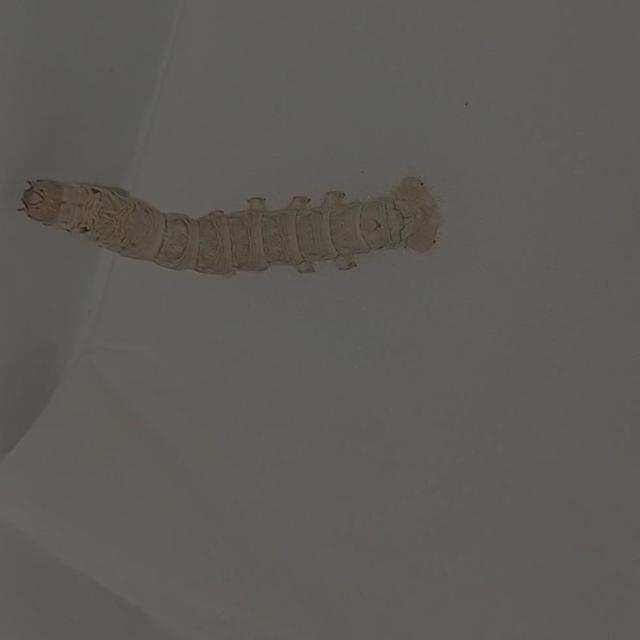Healthy: (13, 164, 447, 287)
